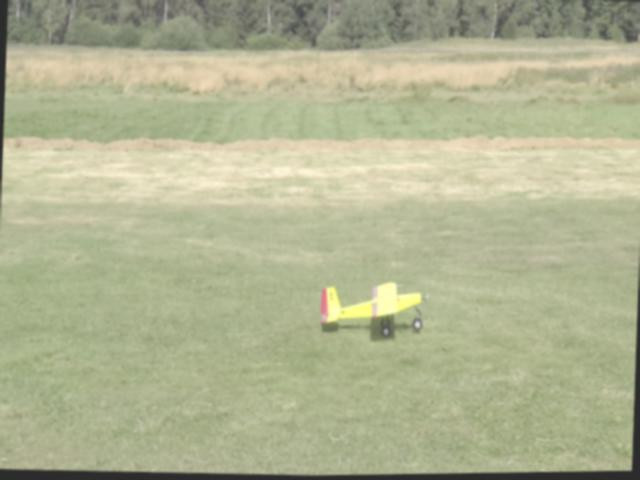plane: (320, 281, 430, 344)
